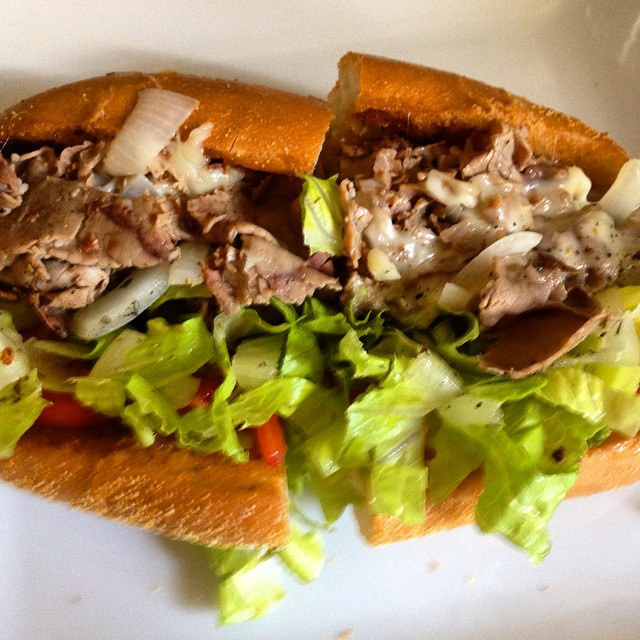chopped lettuce: (120, 321, 501, 456)
slice of bread: (329, 41, 631, 183), (10, 57, 334, 182), (5, 427, 295, 564), (364, 453, 637, 535)
